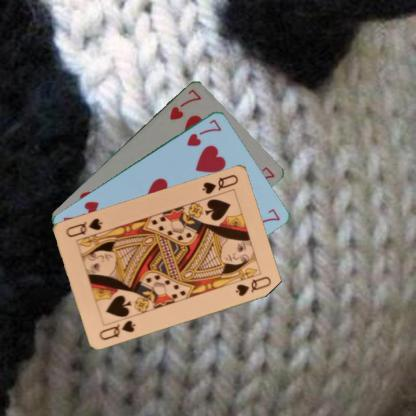7h: (164, 86, 202, 122), (184, 116, 223, 148)
Qs: (96, 317, 137, 341), (199, 172, 240, 195)
